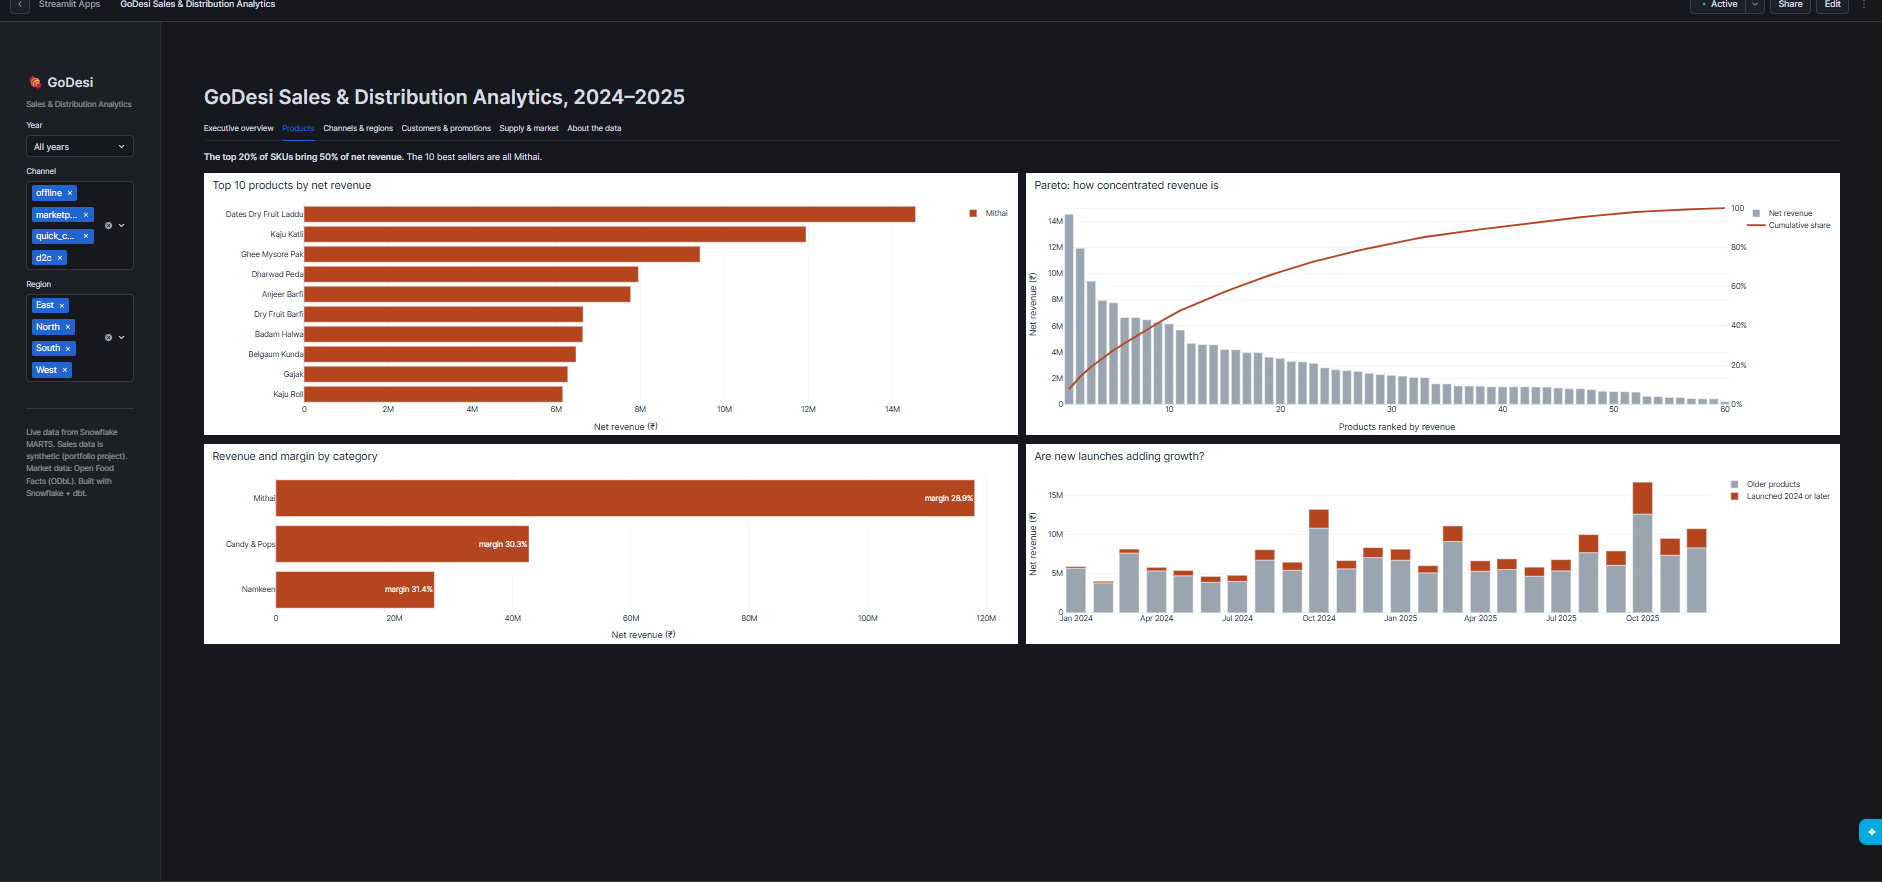

The dashboard page shown, as its layout file describes it:
{"tool":"powerbi","page":{"name":"Products","canvas":[1280,720],"ordinal":1},"visuals":[{"type":"slicer","fields":{"Values":["DIM_DATE.YEAR"]},"box":[699.8,9.6,190.7,70],"z":0},{"type":"slicer","fields":{"Values":["DIM_CHANNEL.CHANNEL"]},"box":[890.6,9.6,189.4,70],"z":1000},{"type":"slicer","fields":{"Values":["DIM_GEOGRAPHY.REGION"]},"box":[1079.9,9.6,182.5,70],"z":2000},{"type":"cardVisual","fields":{"Data":["FCT_ORDER_ITEMS.Net Revenue"]},"box":[20.6,79.6,314.2,109.8],"z":3000},{"type":"cardVisual","fields":{"Data":["FCT_ORDER_ITEMS.Products Sold"]},"box":[660,79.6,304.6,109.8],"z":4000},{"type":"cardVisual","fields":{"Data":["FCT_ORDER_ITEMS.New Launch Revenue %"]},"box":[965,80,300,110],"z":5000},{"type":"cardVisual","fields":{"Data":["FCT_ORDER_ITEMS.Gross Margin %"]},"box":[334.8,79.6,325.2,109.8],"z":6000},{"type":"textbox","box":[20,10,600,50],"z":7000},{"type":"clusteredBarChart","title":"Top 10 SKUs by net revenue","fields":{"Category":["DIM_PRODUCTS.PRODUCT_NAME"],"Y":["FCT_ORDER_ITEMS.Net Revenue"]},"box":[20.6,205,400,495],"z":8000},{"type":"lineClusteredColumnComboChart","title":"Pareto: 29 of 60 SKUs make 80% of revenue","fields":{"Y":["FCT_ORDER_ITEMS.Net Revenue"],"Y2":["FCT_ORDER_ITEMS.Cumulative Revenue %"],"Category":["DIM_PRODUCTS.Revenue Rank"]},"box":[419.9,189.4,860.4,240.1],"z":9000},{"type":"lineClusteredColumnComboChart","title":"Category revenue and margin %","fields":{"Category":["FCT_ORDER_ITEMS.CATEGORY"],"Y":["FCT_ORDER_ITEMS.Net Revenue"],"Y2":["FCT_ORDER_ITEMS.Gross Margin %"]},"box":[435,429.5,404.8,270.3],"z":10000},{"type":"clusteredBarChart","title":"Top 5 new launches (since 2024)","fields":{"Category":["DIM_PRODUCTS.PRODUCT_NAME"],"Y":["FCT_ORDER_ITEMS.Net Revenue"]},"box":[839.8,429.5,440.5,289.5],"z":11000}]}

Visuals, with their boxes on the page's 1280x720 design canvas (x1, y1, x2, y2). These are canvas units, not pixel positions in the 1882x882 screenshot, which may show the page scaled, cropped or inside an application window:
slicer - DIM_DATE.YEAR: <box>700,10,890,80</box>
slicer - DIM_CHANNEL.CHANNEL: <box>891,10,1080,80</box>
slicer - DIM_GEOGRAPHY.REGION: <box>1080,10,1262,80</box>
cardVisual - FCT_ORDER_ITEMS.Net Revenue: <box>21,80,335,189</box>
cardVisual - FCT_ORDER_ITEMS.Products Sold: <box>660,80,965,189</box>
cardVisual - FCT_ORDER_ITEMS.New Launch Revenue %: <box>965,80,1265,190</box>
cardVisual - FCT_ORDER_ITEMS.Gross Margin %: <box>335,80,660,189</box>
textbox: <box>20,10,620,60</box>
"Top 10 SKUs by net revenue" clusteredBarChart: <box>21,205,421,700</box>
"Pareto: 29 of 60 SKUs make 80% of revenue" lineClusteredColumnComboChart: <box>420,189,1280,430</box>
"Category revenue and margin %" lineClusteredColumnComboChart: <box>435,430,840,700</box>
"Top 5 new launches (since 2024)" clusteredBarChart: <box>840,430,1280,719</box>
